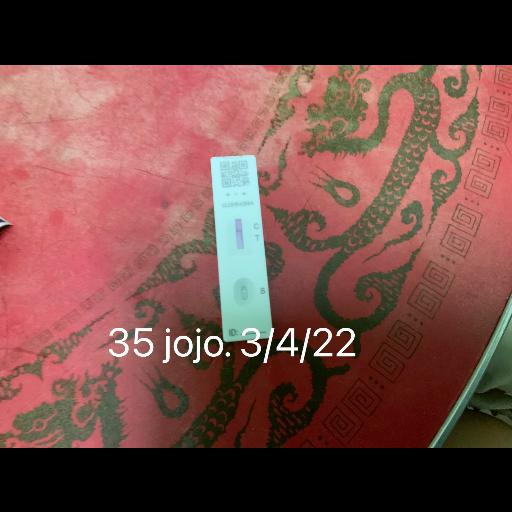Neg: (211, 154, 273, 340)
